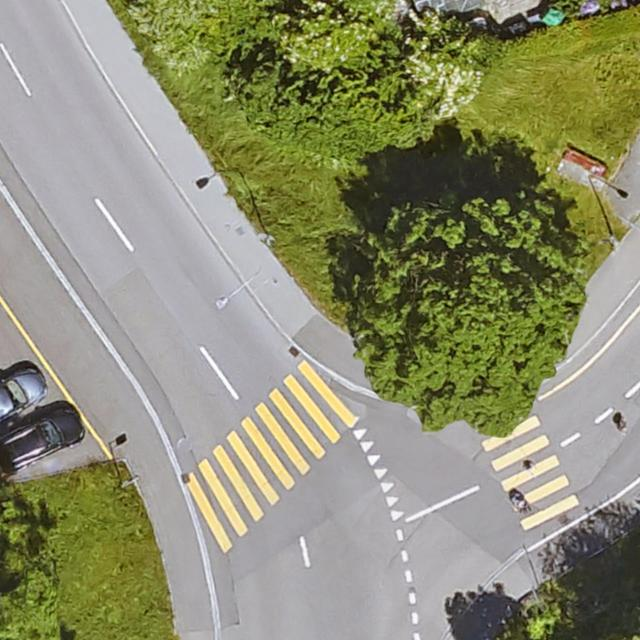tree: (354, 193, 582, 440), (609, 515, 640, 640), (498, 602, 583, 640)
